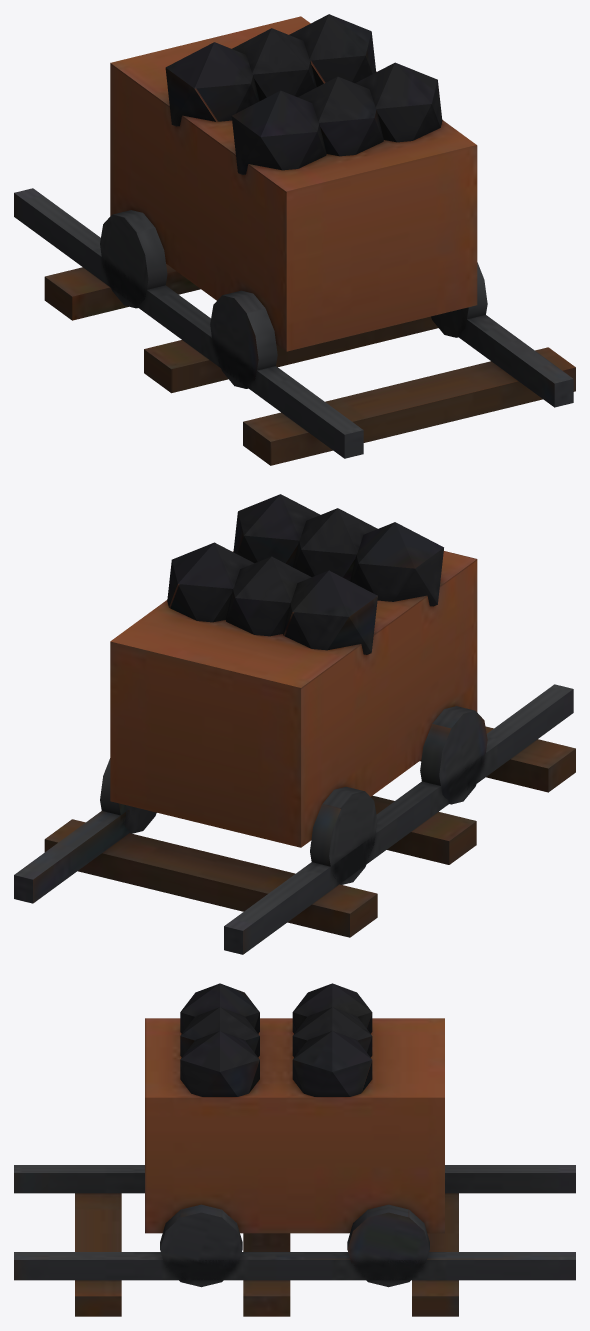
Rendered from carretilla_carbon.glb.
3 renders of one model, top to bottom at view 1: azimuth 30°, elevation 25°; view 2: azimuth 150°, elevation 25°; view 3: azimuth 270°, elevation 25°, orthographic. The views are drawn at different scales.
Parts seen in each view (by area): view 1: carretilla_carbon; view 2: carretilla_carbon; view 3: carretilla_carbon.
Boxes of the visible parts, x1,y1,x2,y2 form: carretilla_carbon: (14,14,575,465); carretilla_carbon: (14,494,575,954); carretilla_carbon: (14,983,575,1316).
Bounding box in the file's own units: 1.6 × 1.45 × 3.
Materials: 1 (1 with a texture image).
